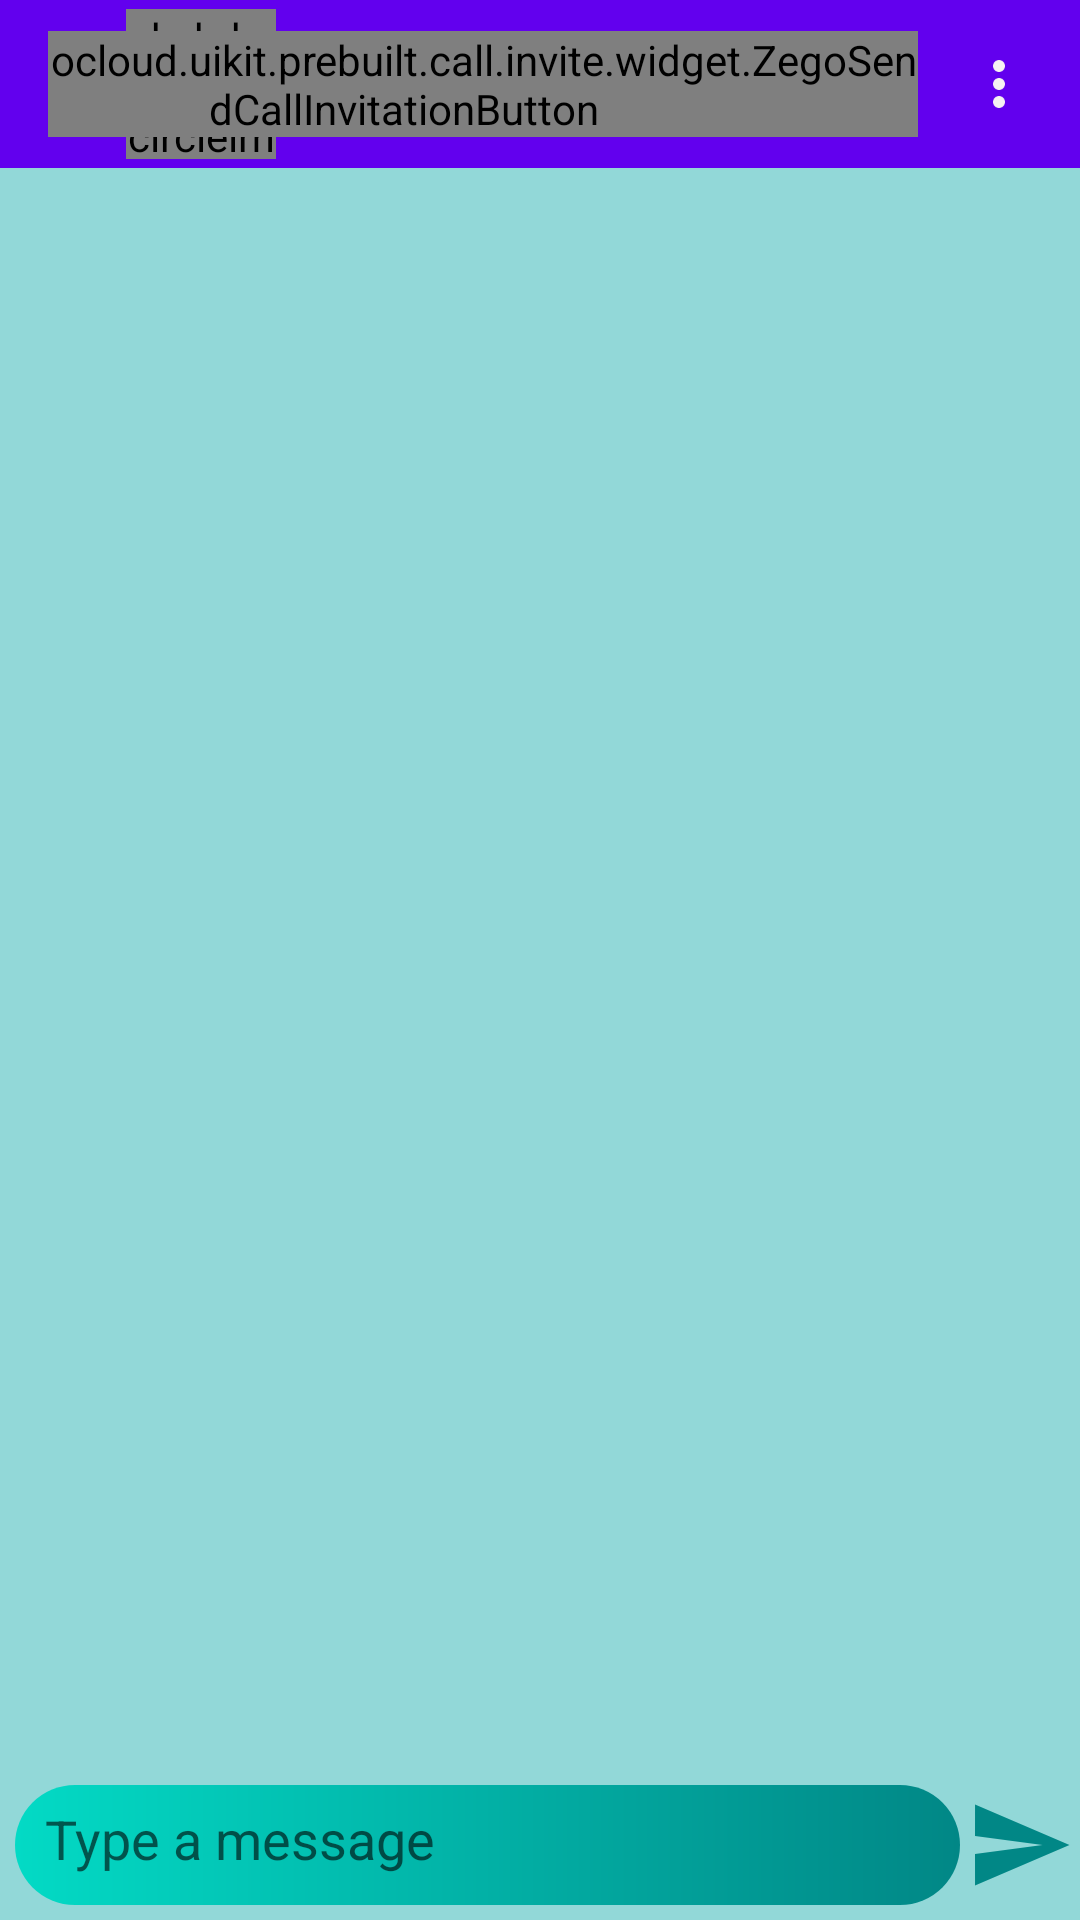

Icon click points for this 1080 × 1920 phone screenshot, format point (x, y):
more vert: point (999, 84)
send: point (1022, 1845)
